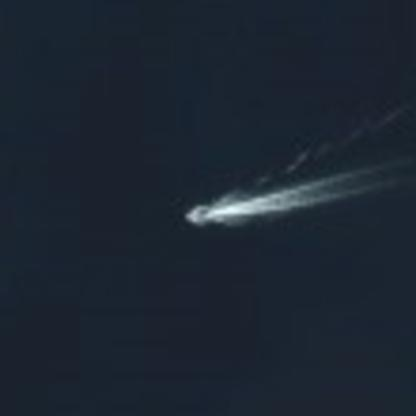ship: (176, 196, 220, 232)
